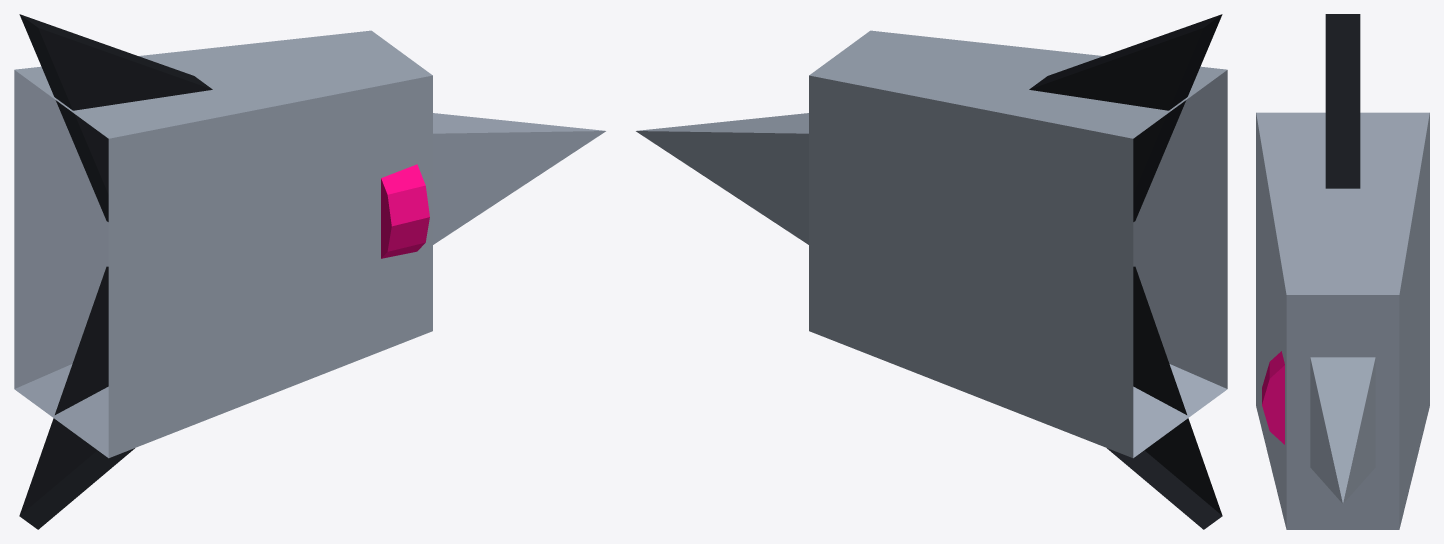
The model's file is elite.obj.
3 renders of one model, left to right at view 1: azimuth 30°, elevation 25°; view 2: azimuth 150°, elevation 25°; view 3: azimuth 270°, elevation 25°, orthographic. The views are drawn at different scales.
Visible parts, largest first — view 1: elite; view 2: elite; view 3: elite.
Part boxes in pixels (x1,y1,x2,y2): elite: (14, 14, 605, 529); elite: (636, 14, 1227, 529); elite: (1256, 14, 1429, 529).
Size of the model in its own units: 5.3 by 4.4 by 1.5.
